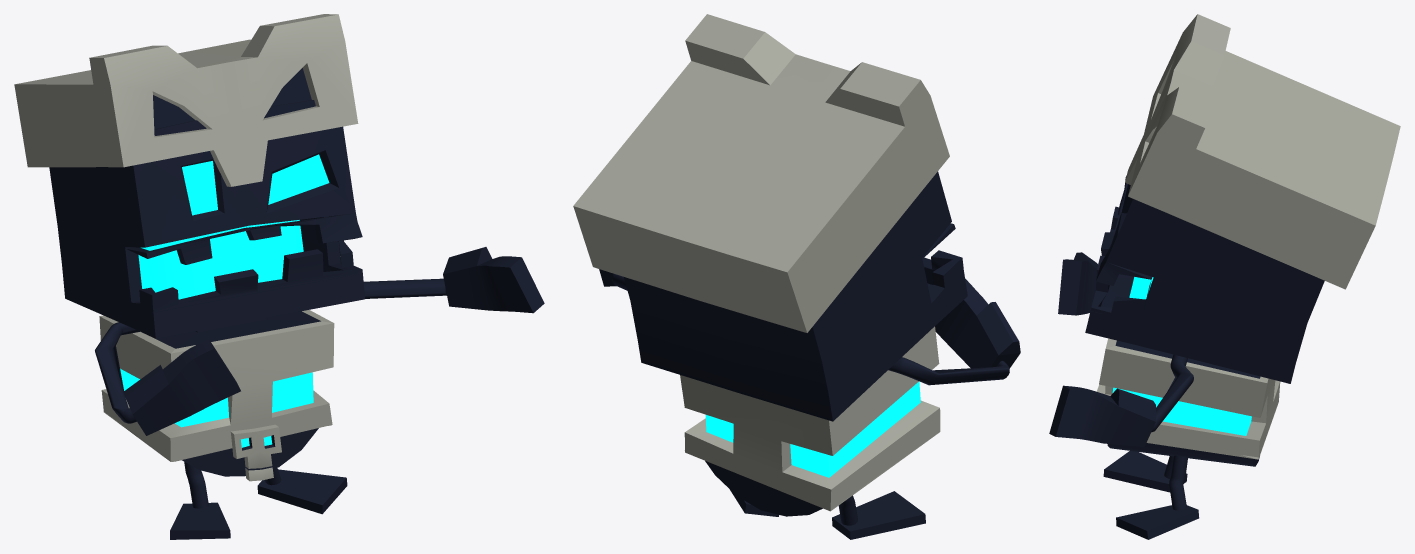
Rendered from Creep_2.fbx.
3 views of the same model, side by side, from view 1: azimuth 30°, elevation 25°; view 2: azimuth 150°, elevation 25°; view 3: azimuth 270°, elevation 25° (orthographic). The views are drawn at different scales.
Parts seen in each view (by area): view 1: Creep_2; view 2: Creep_2; view 3: Creep_2.
Boxes of the visible parts, x1,y1,x2,y2 form: Creep_2: (14,14,544,539); Creep_2: (573,14,1020,539); Creep_2: (1049,14,1400,539).
Bounding box in the file's own units: 103 × 115 × 84.11.
